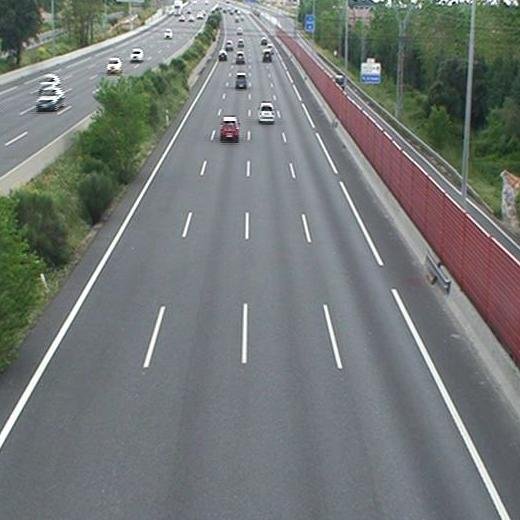car: (220, 117, 239, 140), (258, 102, 274, 122), (236, 74, 246, 87), (234, 53, 245, 64), (263, 50, 272, 61), (219, 50, 227, 60)
